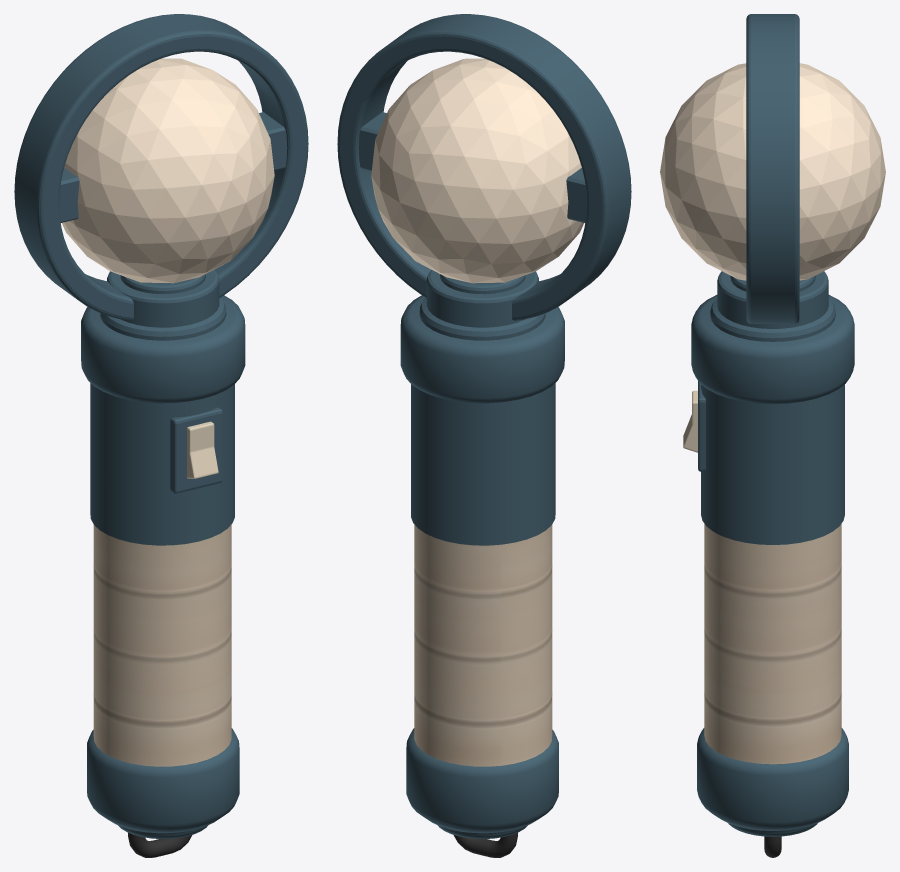
File: 魔法棒.glb
3 views of the same model, side by side, from view 1: azimuth 30°, elevation 25°; view 2: azimuth 150°, elevation 25°; view 3: azimuth 270°, elevation 25° (orthographic).
Parts seen in each view (by area): view 1: 1圆环; view 2: 1圆环; view 3: 1圆环.
Boxes of the visible parts, left/top/right/bottom form: 1圆环: left=14, top=14, right=308, bottom=857; 1圆环: left=337, top=14, right=631, bottom=857; 1圆环: left=660, top=14, right=885, bottom=857.
Bounding box in the file's own units: 0.1806 × 0.5285 × 0.1315.
5 materials, 1 textured.
